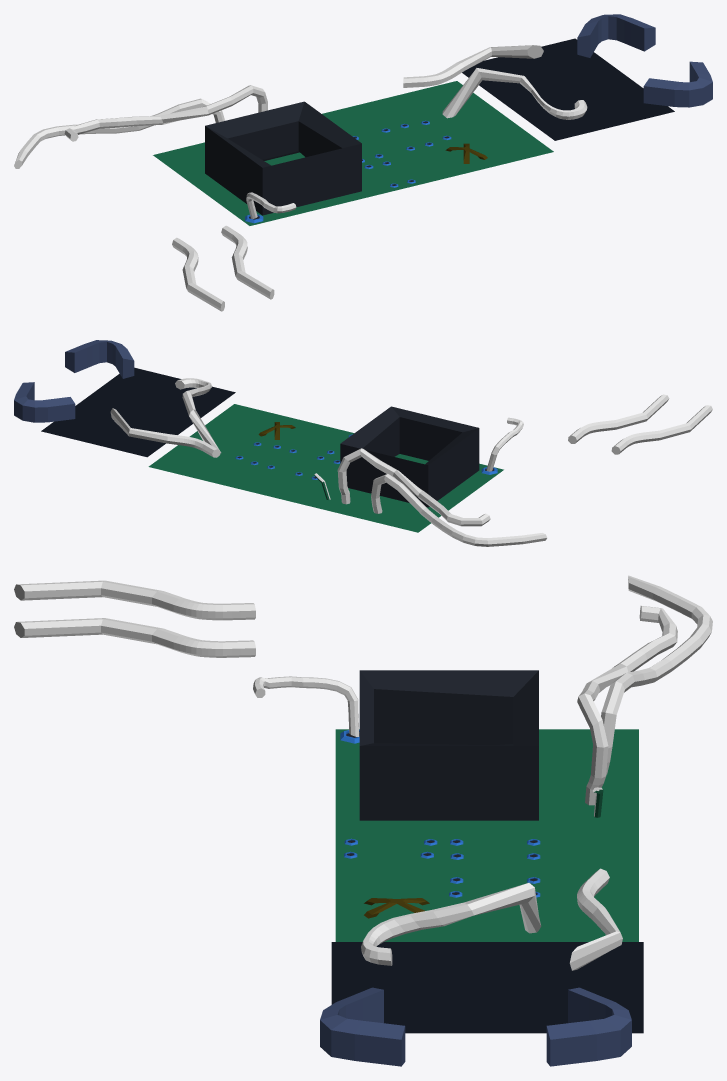
The model's file is Circuit 1.fbx.
The picture shows the model from 3 angles, top to bottom: view 1: azimuth 30°, elevation 25°; view 2: azimuth 150°, elevation 25°; view 3: azimuth 270°, elevation 25°; orthographic projection. The views are drawn at different scales.
Parts seen in each view (by area): view 1: Devre Kartı 1; view 2: Devre Kartı 1; view 3: Devre Kartı 1.
Boxes of the visible parts, box(x1,y1,x2,y2) form: Devre Kartı 1: box(14, 14, 712, 311); Devre Kartı 1: box(14, 340, 712, 546); Devre Kartı 1: box(14, 575, 712, 1066).
Bounding box in the file's own units: 710 × 81.13 × 447.
